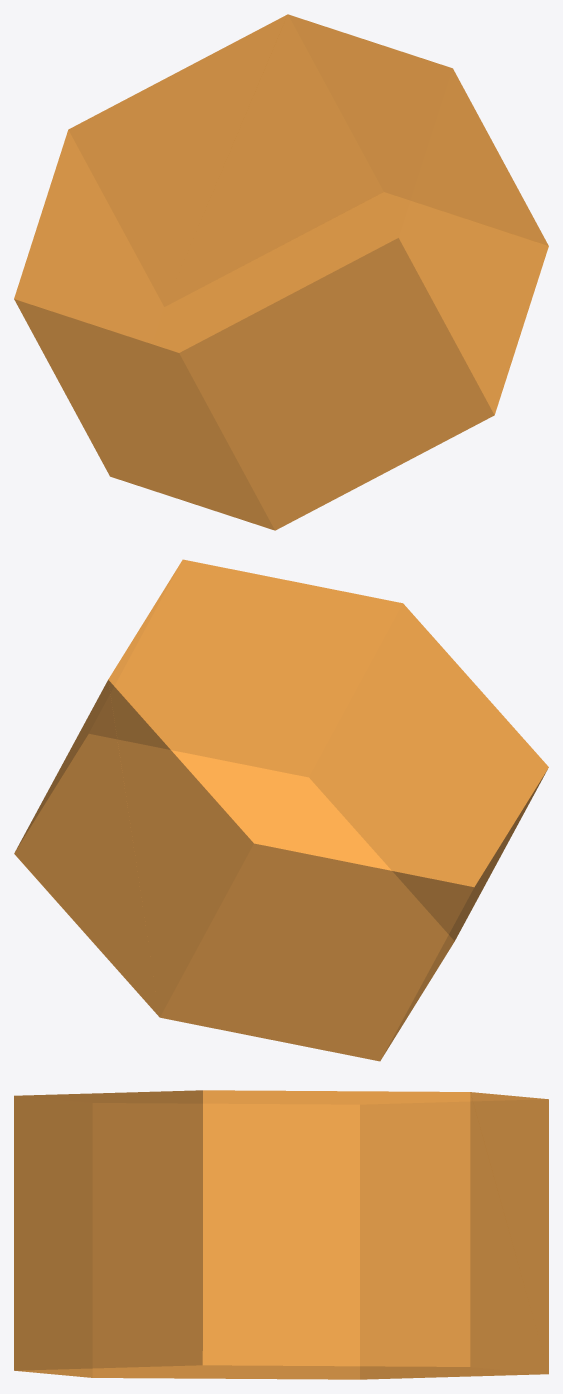
The picture shows the model from 3 angles, top to bottom: view 1: azimuth 30°, elevation 25°; view 2: azimuth 150°, elevation 25°; view 3: azimuth 270°, elevation 25°; orthographic projection. The views are drawn at different scales.
Visible parts, largest first — view 1: root; view 2: root; view 3: root.
Boxes of the visible parts, x1=… form: root: x1=14, y1=14, x2=548, y2=530; root: x1=14, y1=559, x2=548, y2=1061; root: x1=14, y1=1090, x2=548, y2=1379.
Bounding box in the file's own units: 7.56 × 6.13 × 6.81.
